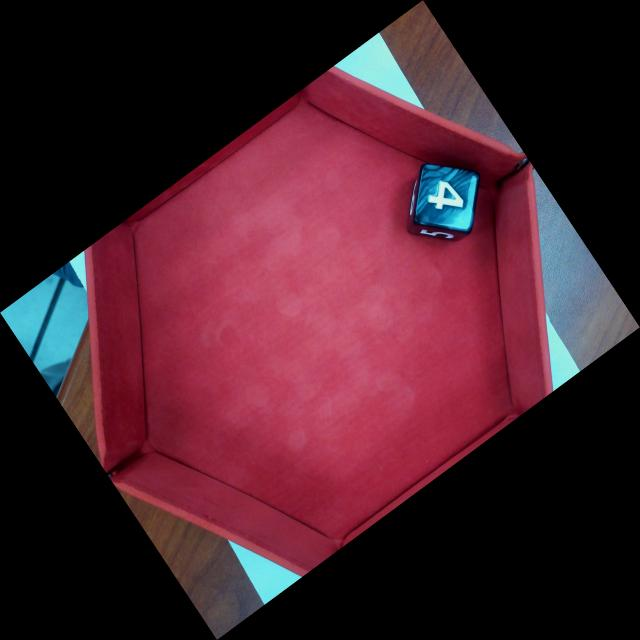dice: (415, 162, 476, 233)
